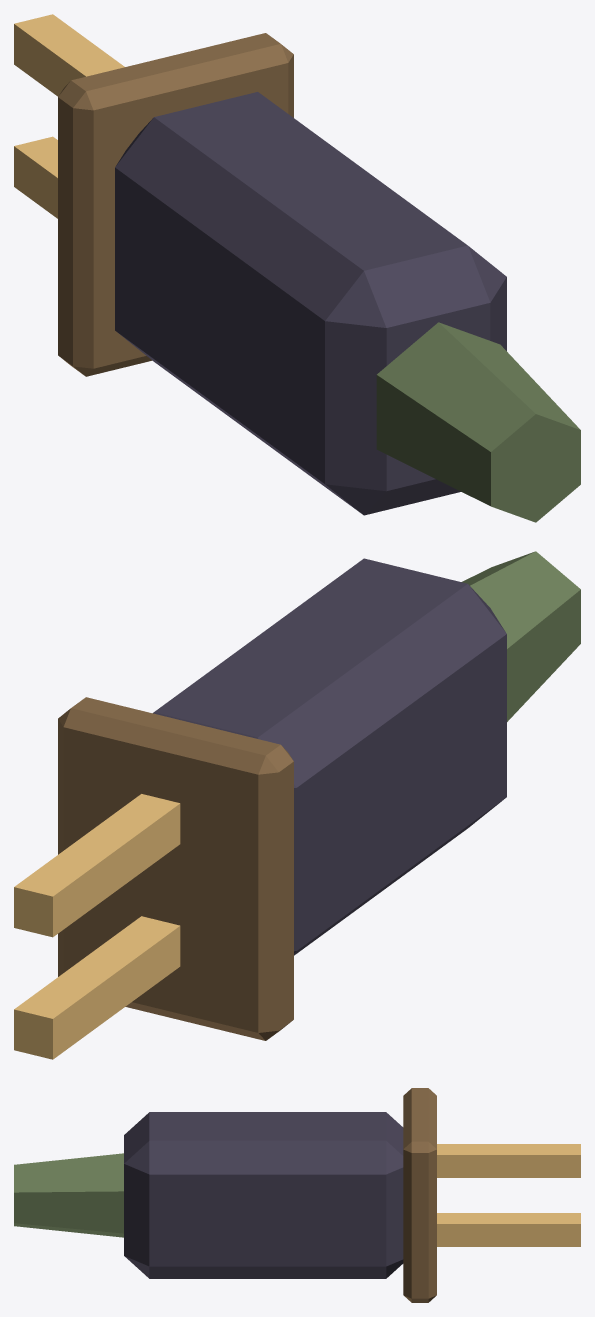
File: fiche_cable.glb
3 renders of one model, top to bottom at view 1: azimuth 30°, elevation 25°; view 2: azimuth 150°, elevation 25°; view 3: azimuth 270°, elevation 25°, orthographic. The views are drawn at different scales.
Parts seen in each view (by area): view 1: Fiche; view 2: Fiche; view 3: Fiche.
Part boxes in pixels (box(x1,y1,x2,y2)): Fiche: box(14, 14, 580, 522); Fiche: box(14, 551, 580, 1059); Fiche: box(14, 1088, 580, 1302).
Bounding box in the file's own units: 0.017 × 0.021 × 0.067.
